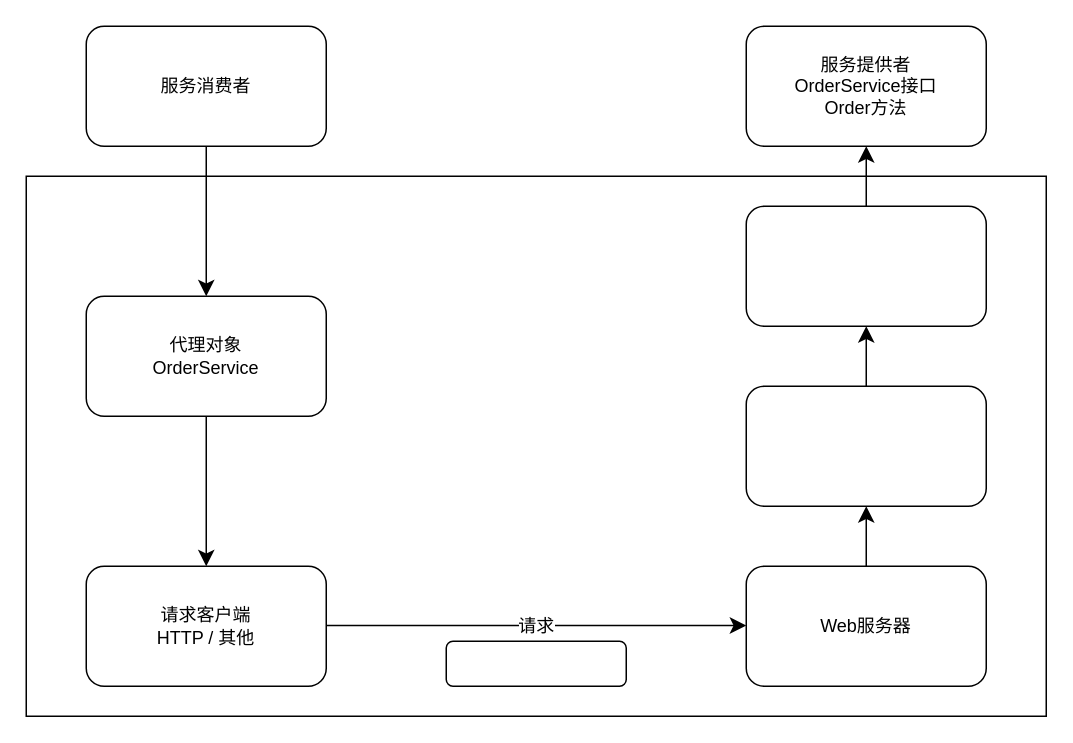
Image size: 1073x743. Some labels were removed from this diagram. Here are the shapes that lost their labels. From the top down, the centre of each, then its label:
[865,265]: 本地服务注册器 “OrderService” 对应实现类
[865,445]: 请求处理器
[535,663]: 序列化 / 反序列化
